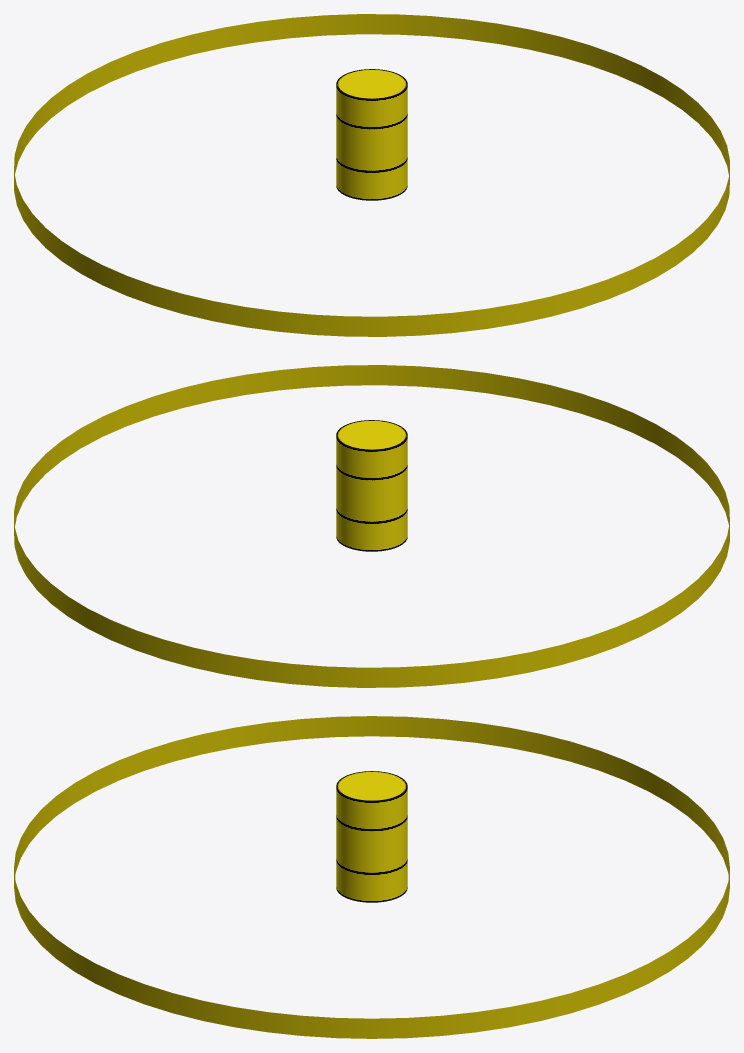
Rendered from barrel_s_r4.obj.
3 views of the same model, one above another, from view 1: azimuth 30°, elevation 25°; view 2: azimuth 150°, elevation 25°; view 3: azimuth 270°, elevation 25° (orthographic).
Parts seen in each view (by area): view 1: barrel_s_r4; view 2: barrel_s_r4; view 3: barrel_s_r4.
Part boxes in pixels (x1=…): barrel_s_r4: x1=14, y1=14, x2=729, y2=336; barrel_s_r4: x1=14, y1=365, x2=729, y2=687; barrel_s_r4: x1=14, y1=716, x2=729, y2=1038.
Bounding box in the file's own units: 8 × 1.25 × 8.
3 materials, 3 textured.
